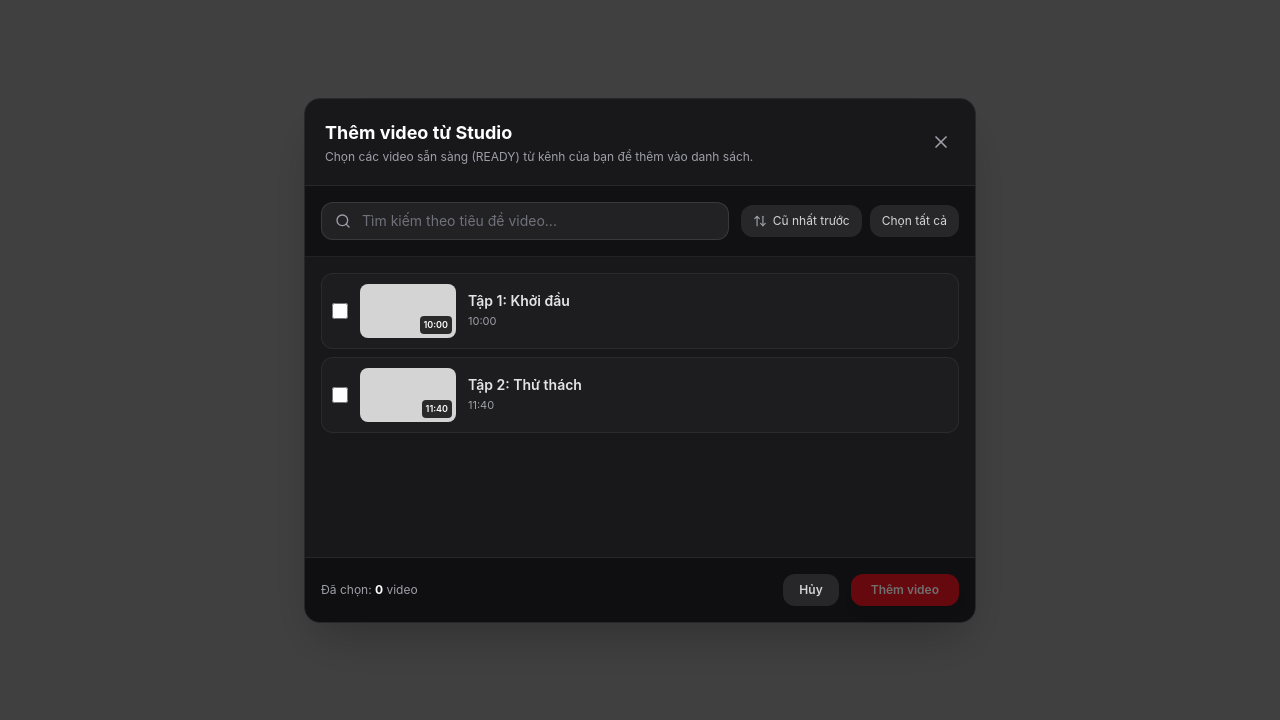
PL2-web: Thư viện (Library) Page & Playlists Management › 4. Add My Videos Picker › reports per-item 409 errors (SERIES_FOREIGN_ITEM / PLAYLIST_FULL) in plain Vietnamese
Click the element with test id "video-picker-item-vid-1" at (640, 310), box [321, 272, 959, 348]
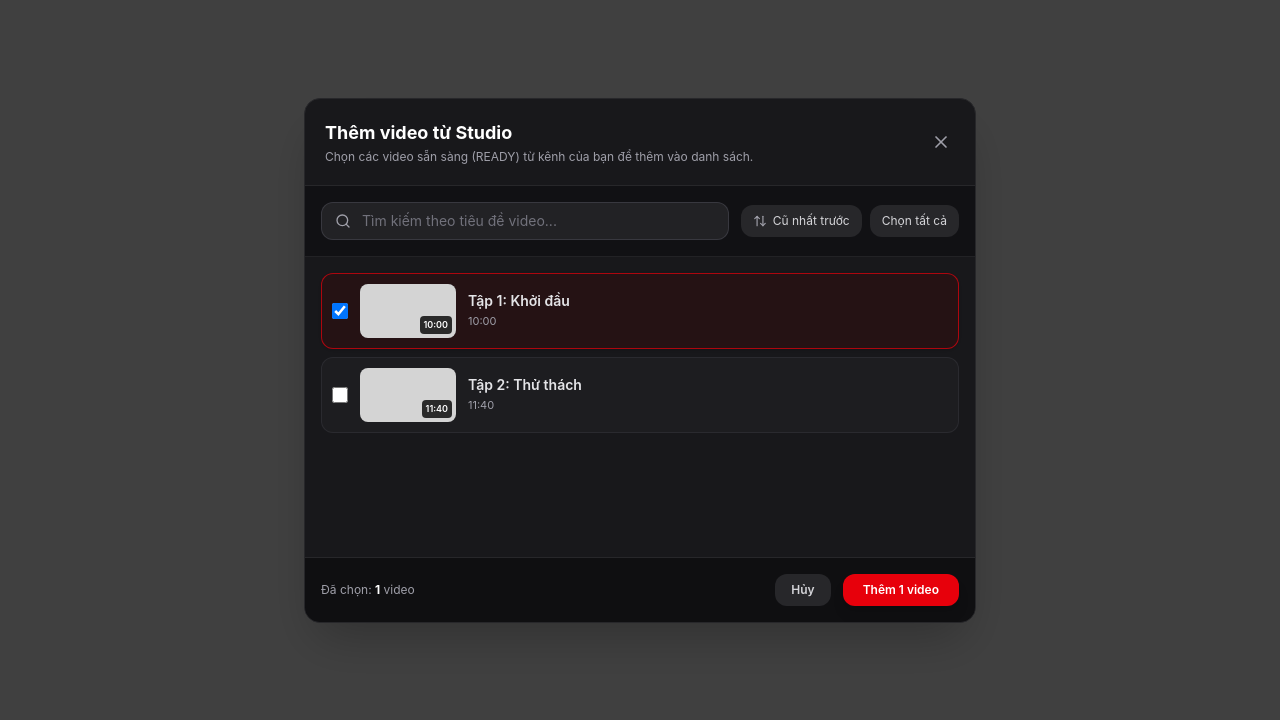
Click the element with test id "video-picker-item-vid-2" at (640, 394), box [321, 356, 959, 432]
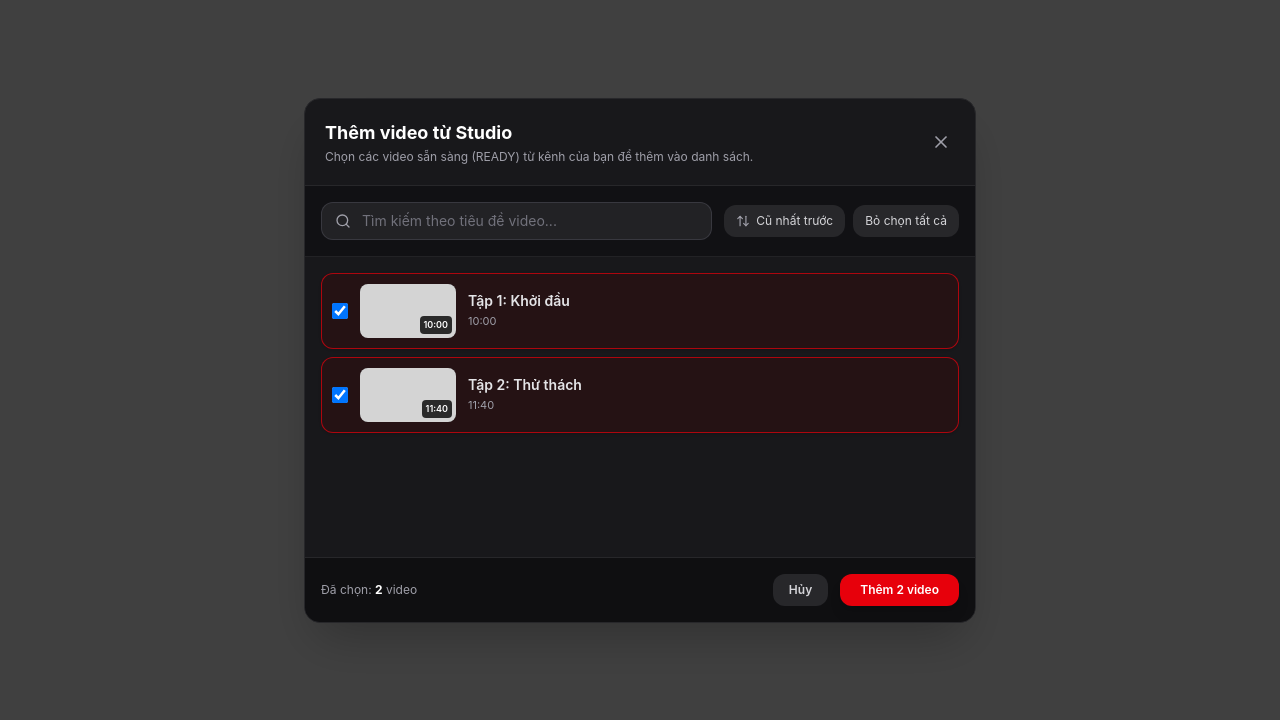
Click the button with test id "video-picker-submit-btn" at (900, 590), box [840, 574, 959, 606]
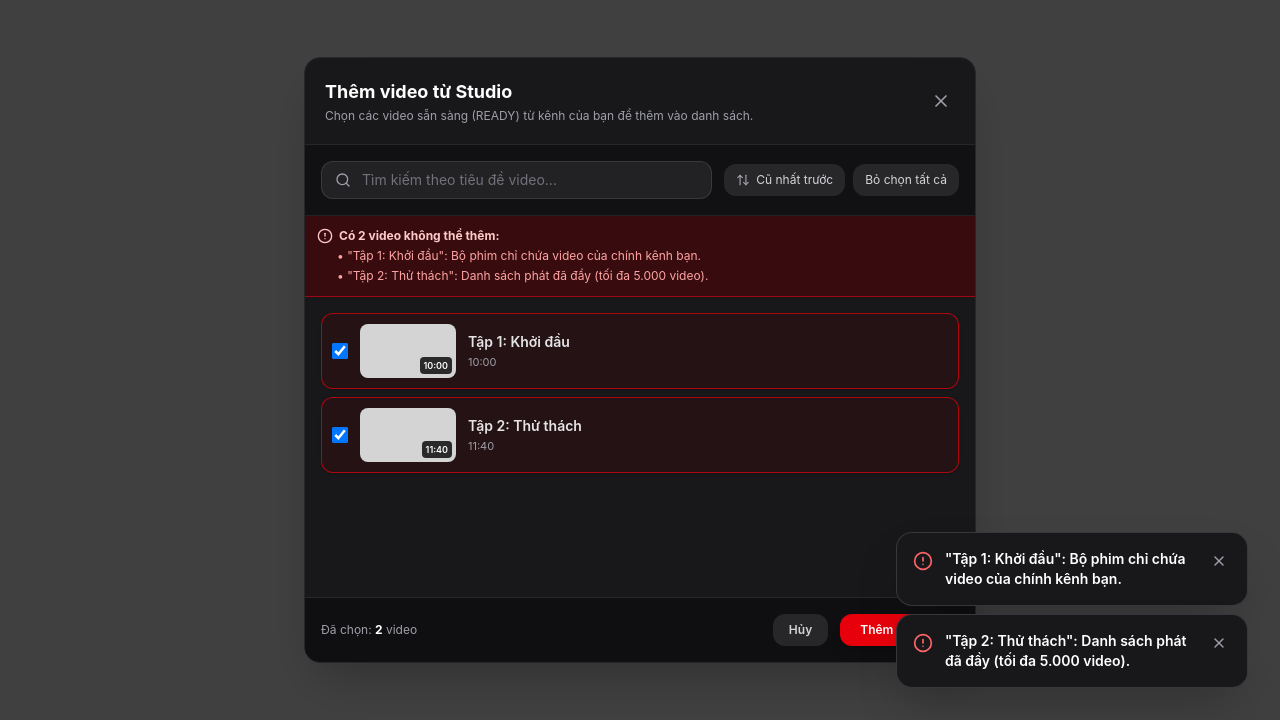
Expected: the text "Bộ phim chỉ chứa video của chính kênh bạn" is shown, [347, 248, 701, 263]
Expected: the text "Danh sách phát đã đầy" is shown, [347, 268, 708, 283]
